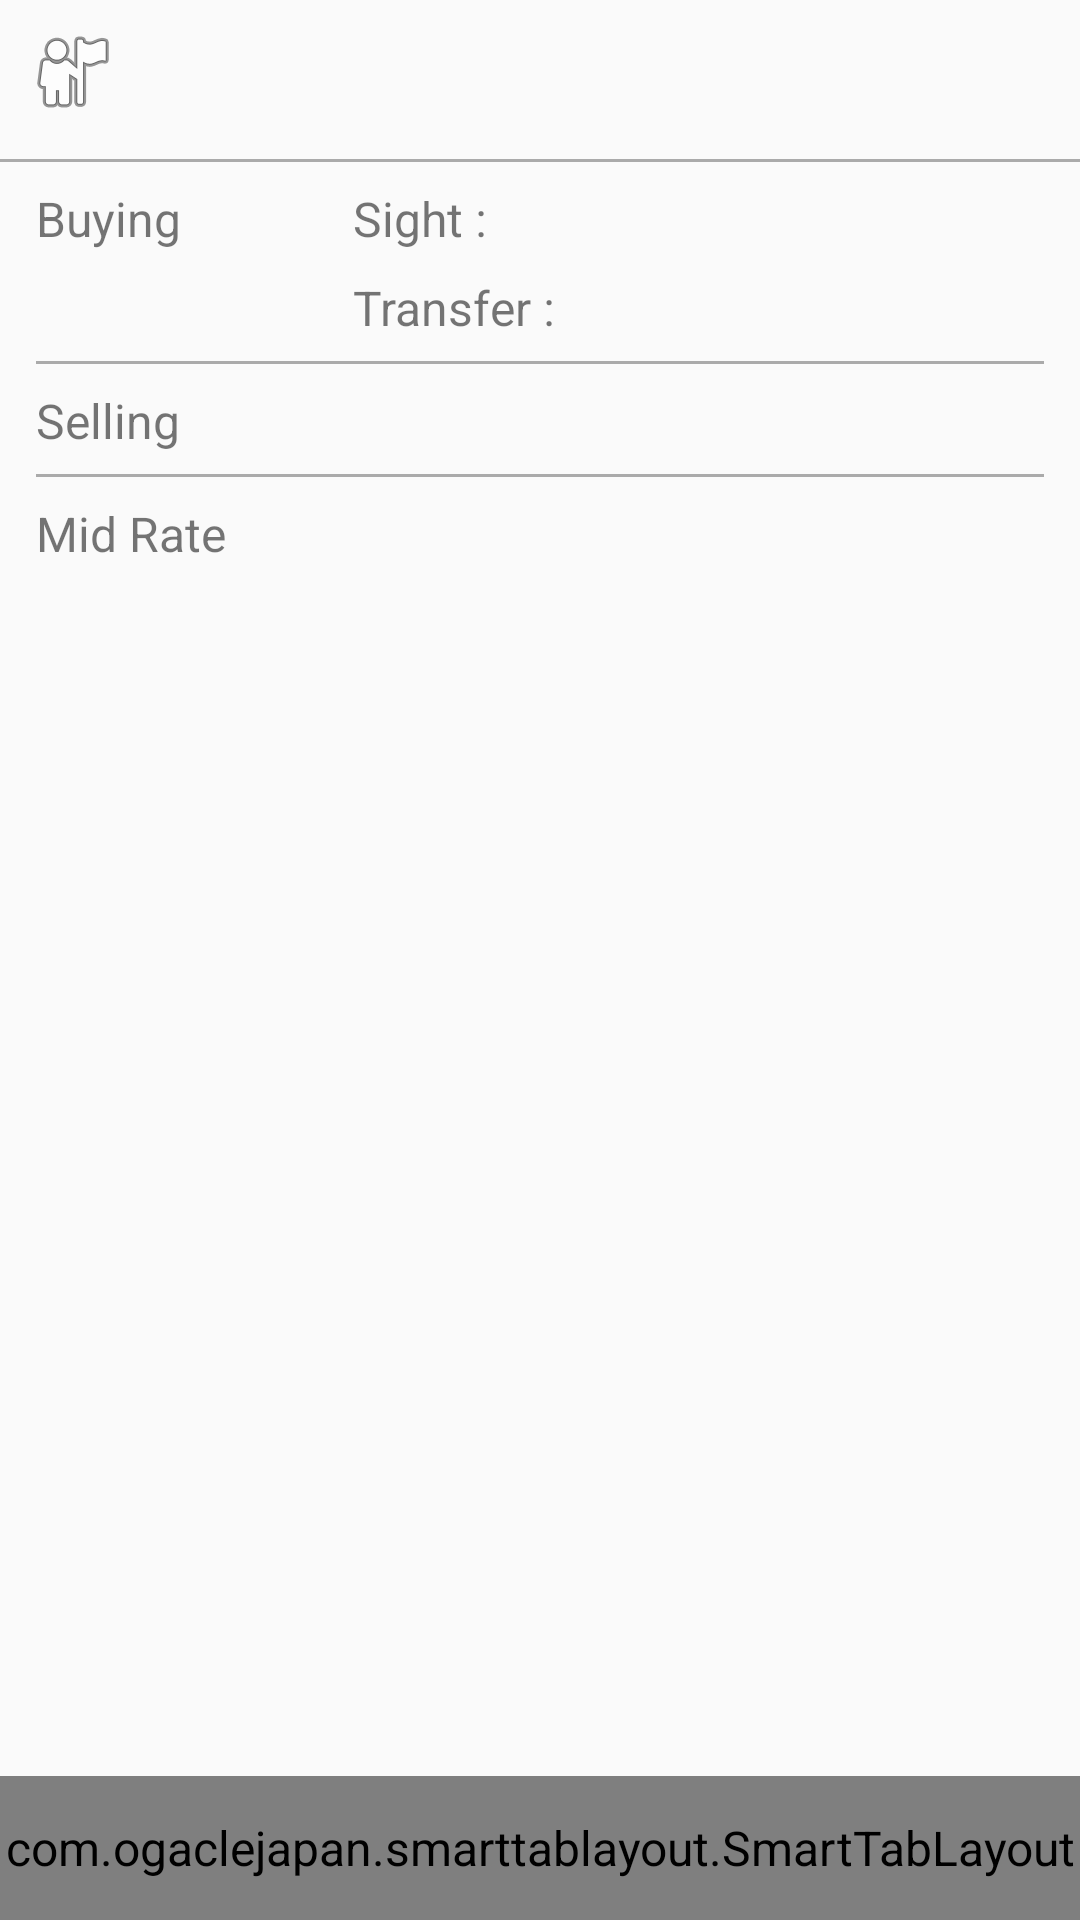

Point at icon controls on the screen. Image size 1080w x 1920h, points as [x,y].
myplaces: [73,72]
